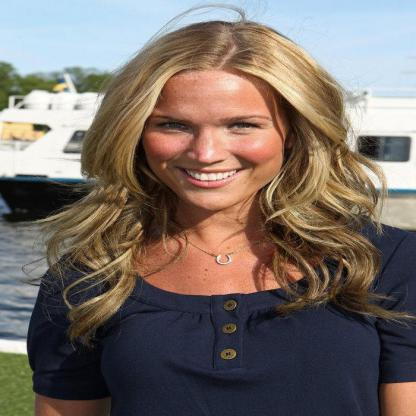long-hair: (25, 210, 392, 274)
